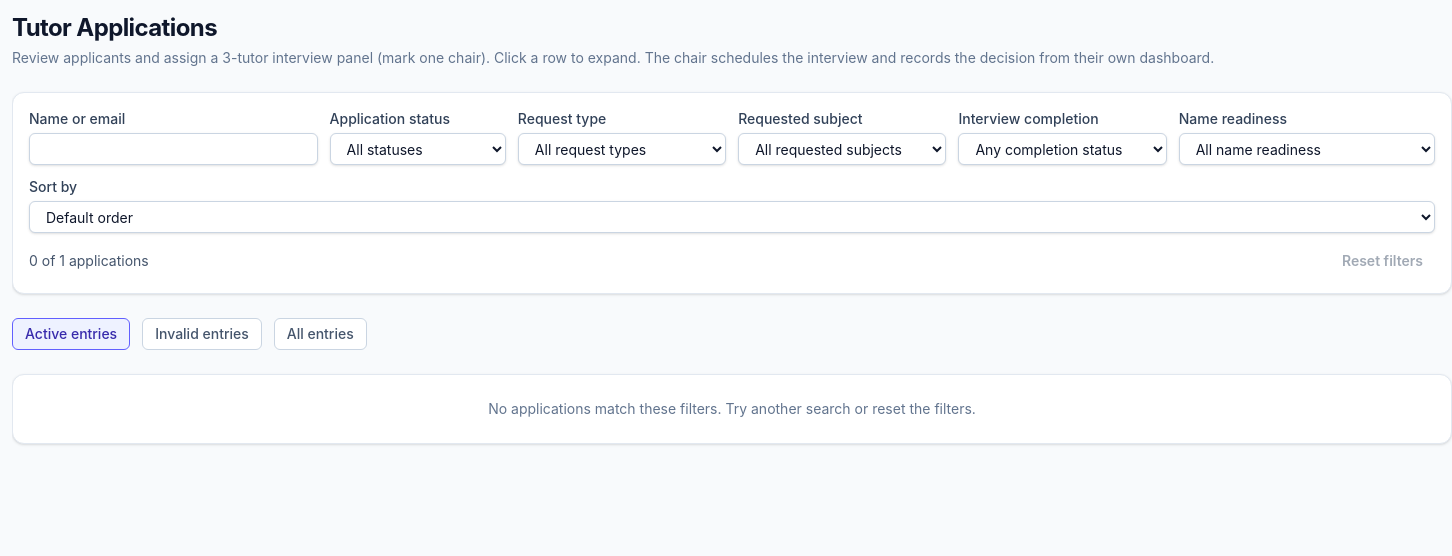
Test: shows a viewer the invalid badge without mounting a private flag editor
This screenshot has width=1452, height=556.
Click the button "Invalid entries": click(202, 334) [142,318,262,350]
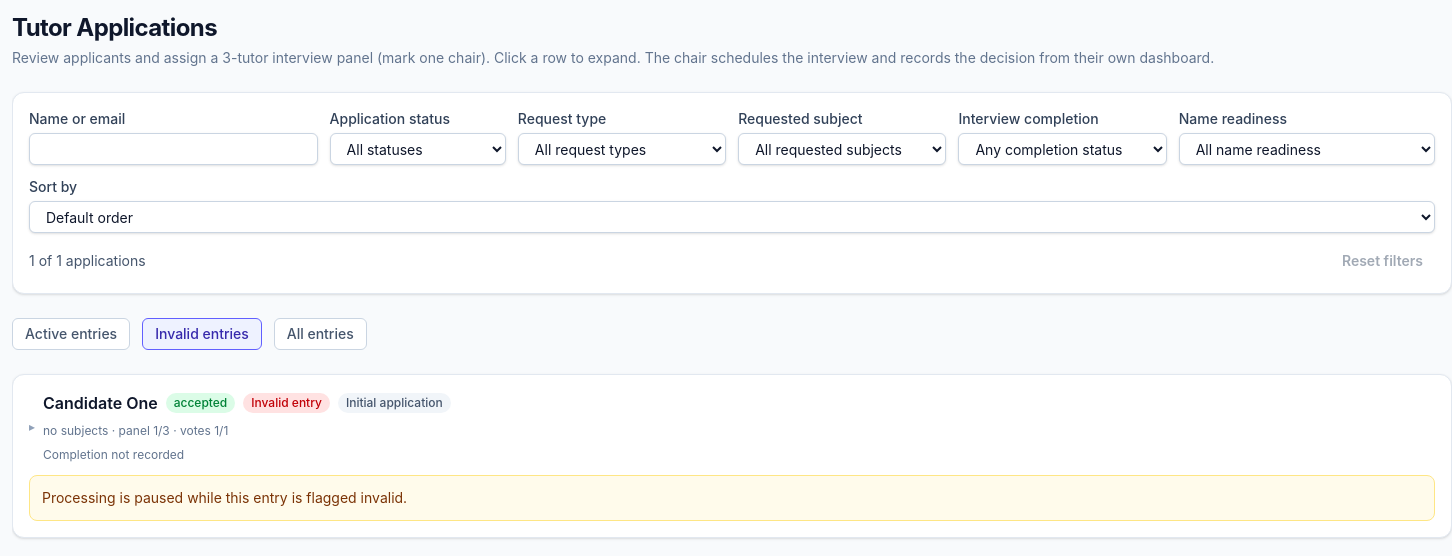
Result: the text "Invalid entry" is shown at [243,393,330,413]
